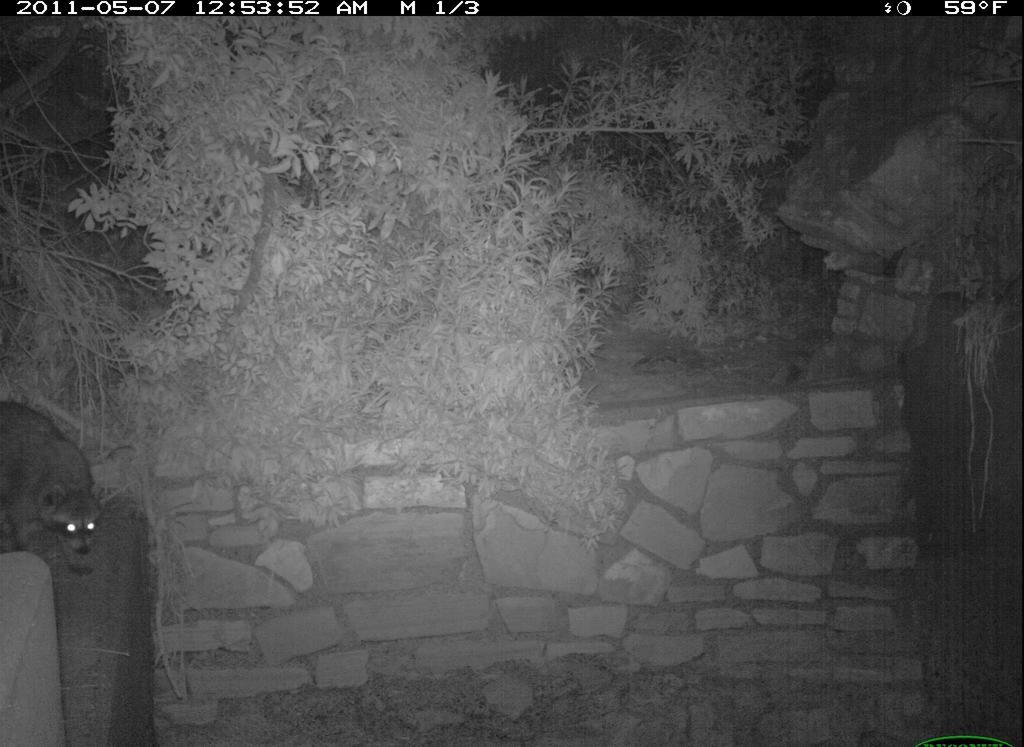raccoon: (3, 400, 108, 579)
